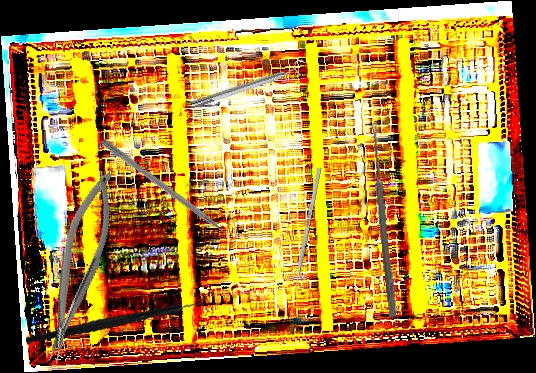Chopper: (25, 265, 213, 369)
Fixation Ring: (188, 57, 309, 114)
Needle Holder: (27, 165, 129, 368)
Pusher: (99, 137, 241, 248), (290, 167, 322, 304)
Surgical Spoon: (368, 122, 399, 317)
